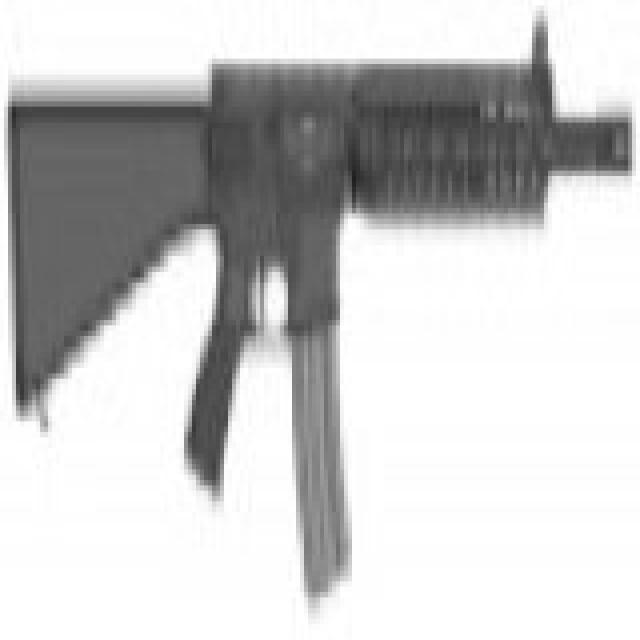Gun: (0, 12, 626, 603)
